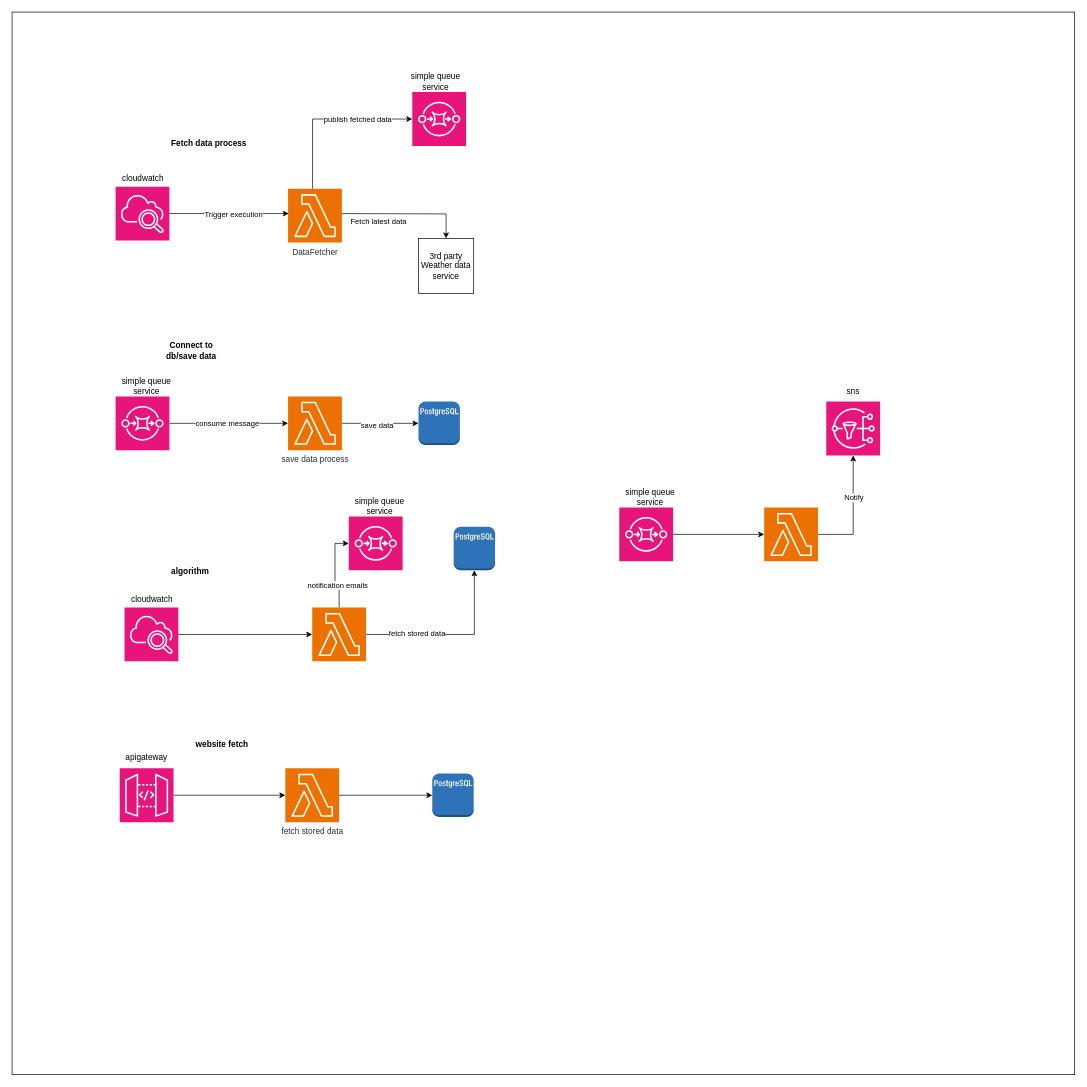
Some shapes in this 1087 by 1087 pixel diagram are drawn without their labels. Here are the shapes that lost their labels. From the top down, the centre of each, then its label:
the point at 790,534: notifications
the point at 339,634: sevisionpro algorithm
